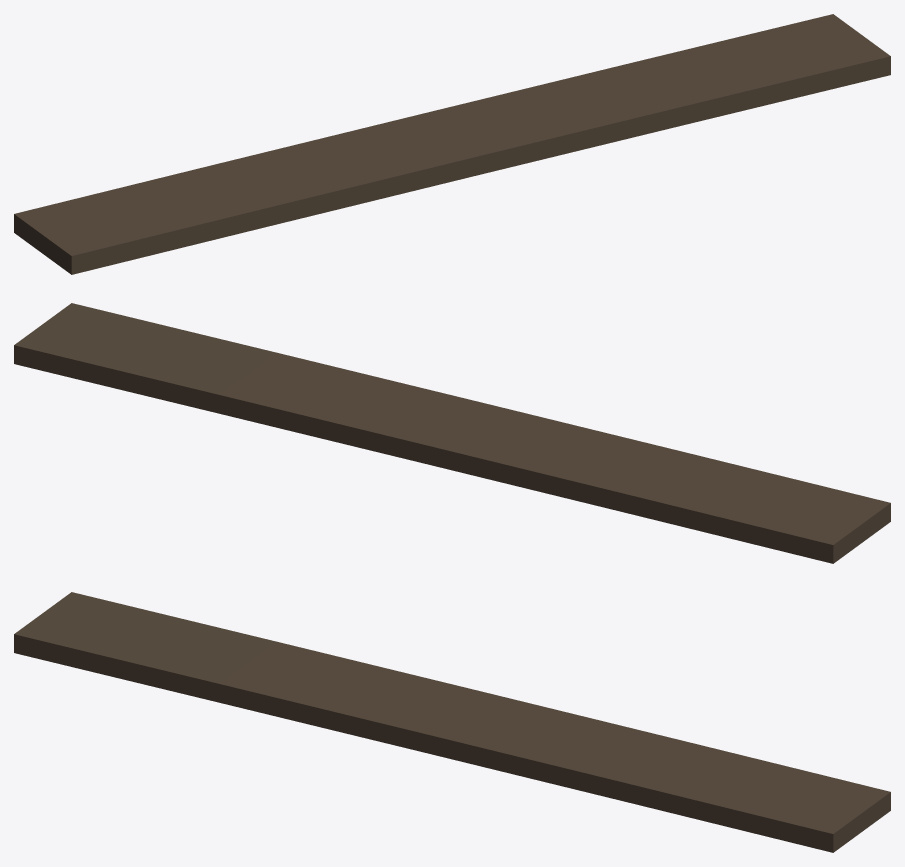
The model's file is pier-plank-1.glb.
3 views of the same model, one above another, from view 1: azimuth 30°, elevation 25°; view 2: azimuth 150°, elevation 25°; view 3: azimuth 330°, elevation 25° (orthographic).
Visible parts, largest first — view 1: pier-plank-1; view 2: pier-plank-1; view 3: pier-plank-1.
Part boxes in pixels (x1,y1,x2,y2): pier-plank-1: (14,14,890,274); pier-plank-1: (14,303,890,563); pier-plank-1: (14,592,890,852).
Size of the model in its own units: 4.1 by 0.0927 by 0.5.
